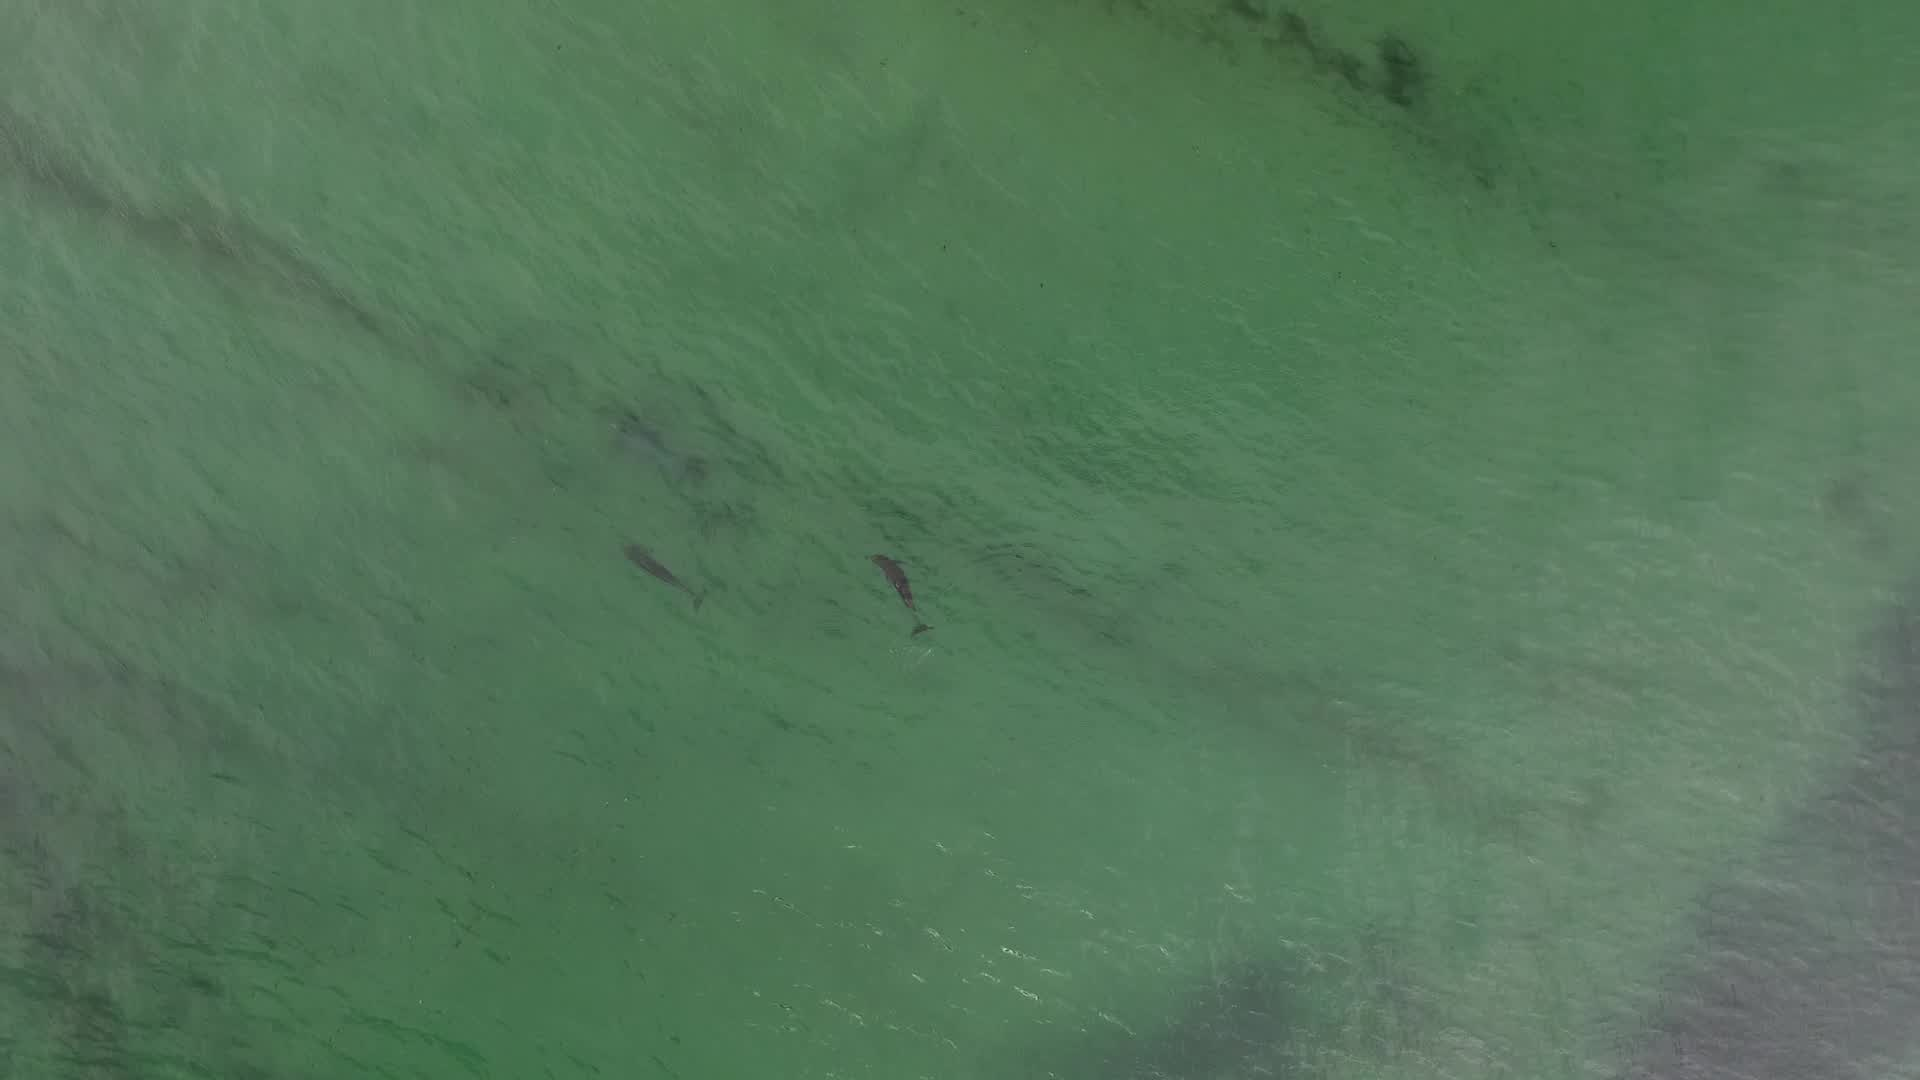dolphin: (845, 537, 948, 651), (607, 524, 715, 616)
